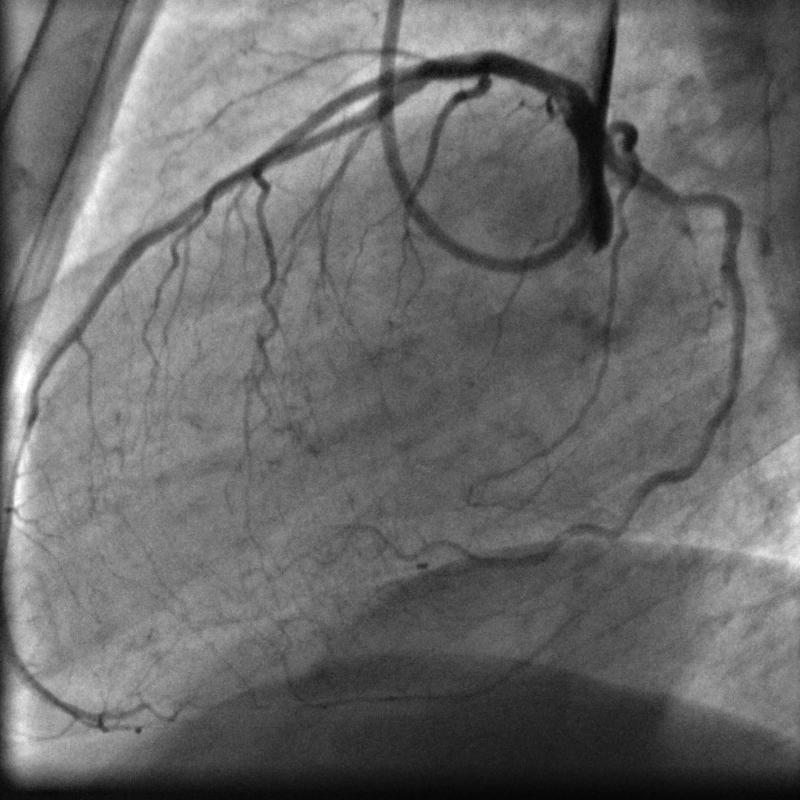Stenosis: (462, 45, 495, 97)
